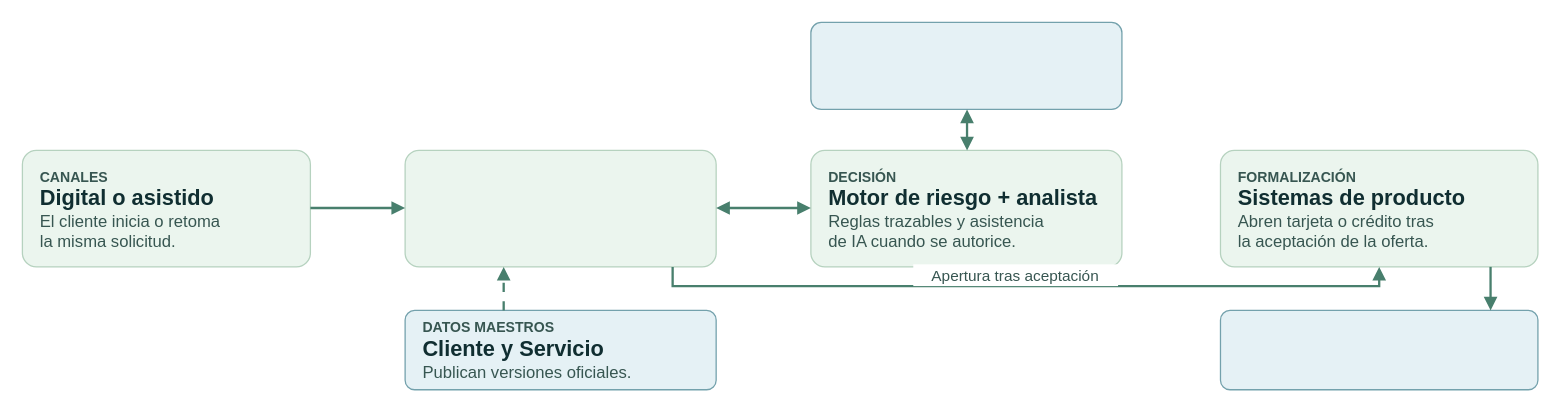
Image size: 1560x412. Some labels were removed from this diagram. Here are the shapes that lost their labels. From the top down, the centre of each, then its label:
At point (966, 65): "SERVICIO EXTERNO Datacrédito Calificación cuando se requiera.".
At point (560, 208): "COORDINACIÓN Orquestación Conserva el ID del expediente y registra el estado.".
At point (1378, 349): "EVIDENCIA Gestión documental Conserva soportes y aceptación.".
